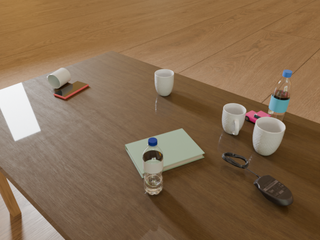book: (125, 129, 204, 178)
bottle: (267, 70, 292, 122), (143, 138, 163, 195)
cup: (253, 117, 285, 156), (222, 104, 246, 135), (155, 69, 174, 96), (47, 68, 71, 88)
mouse: (254, 175, 293, 206)
phone: (54, 81, 89, 99)
toy_car: (245, 111, 271, 123)
